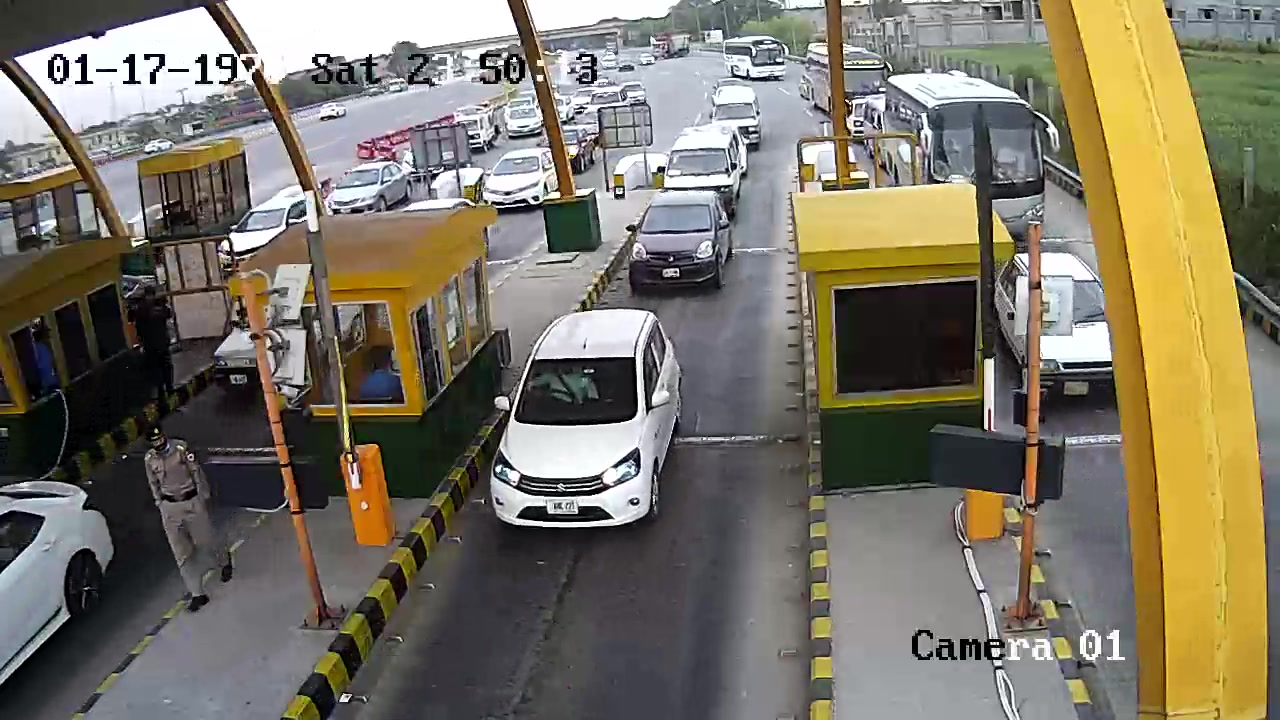F1: (487, 308, 700, 534)
